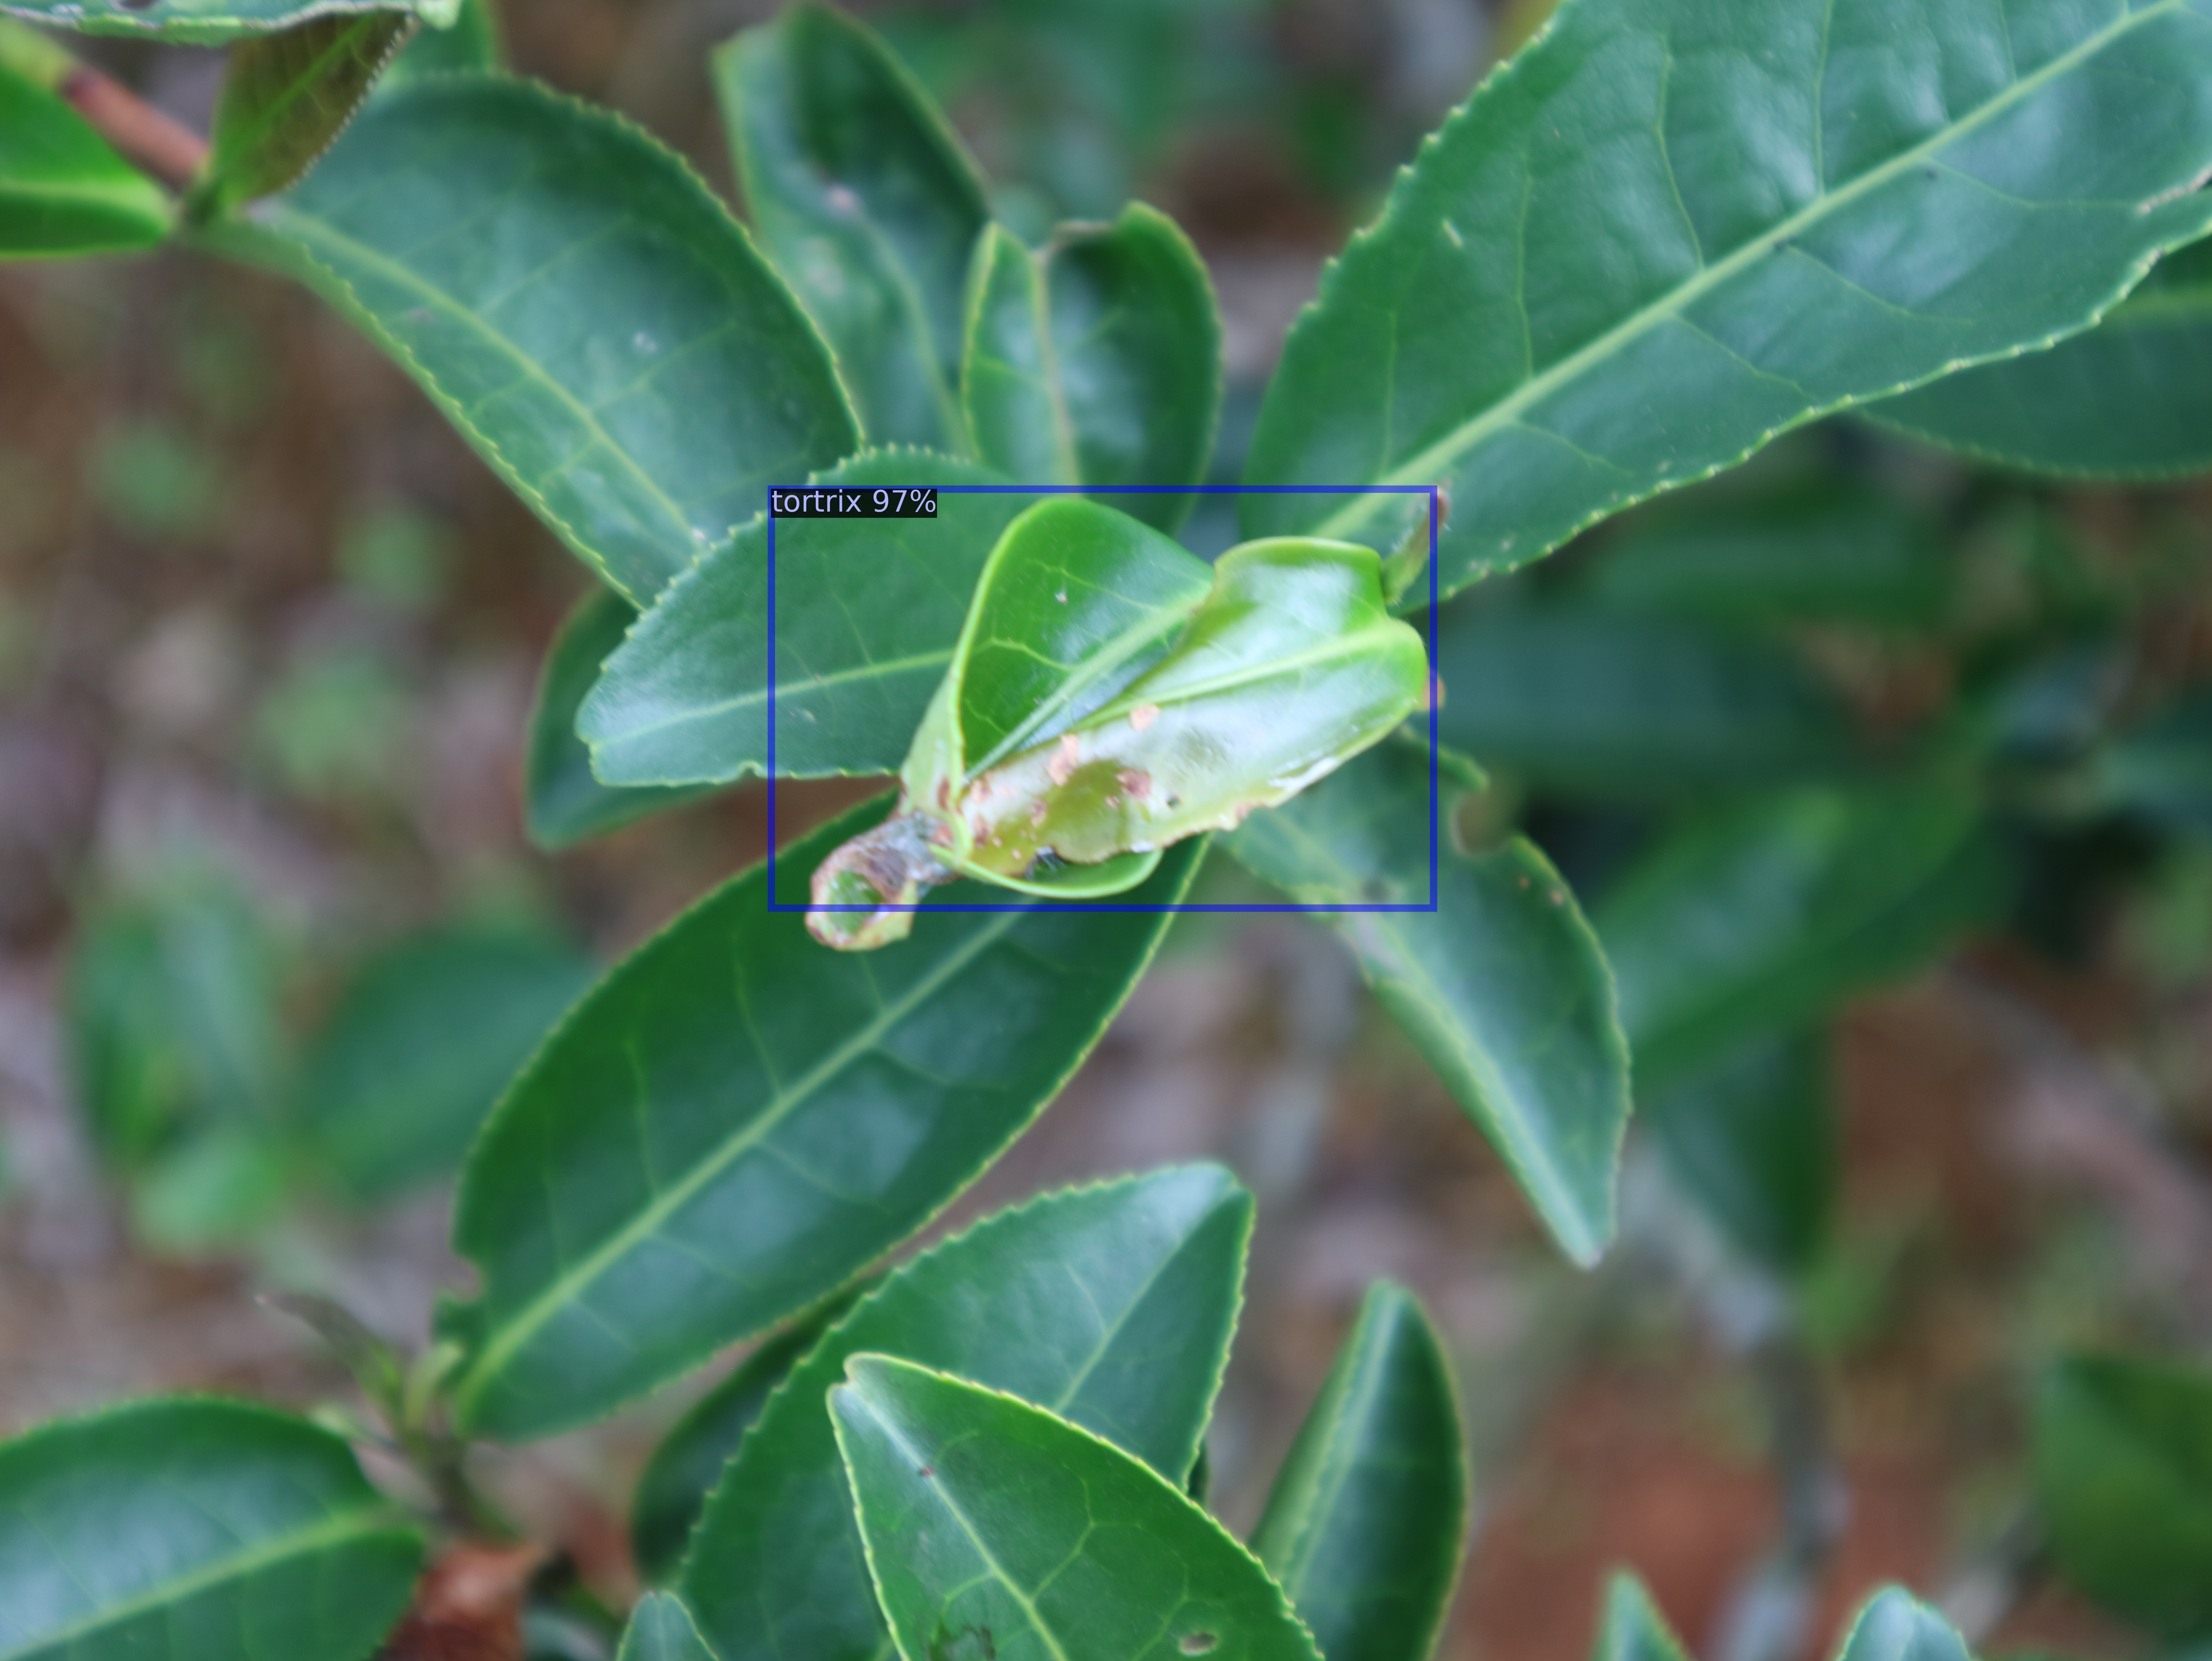tortrix: (771, 489, 1434, 907)
